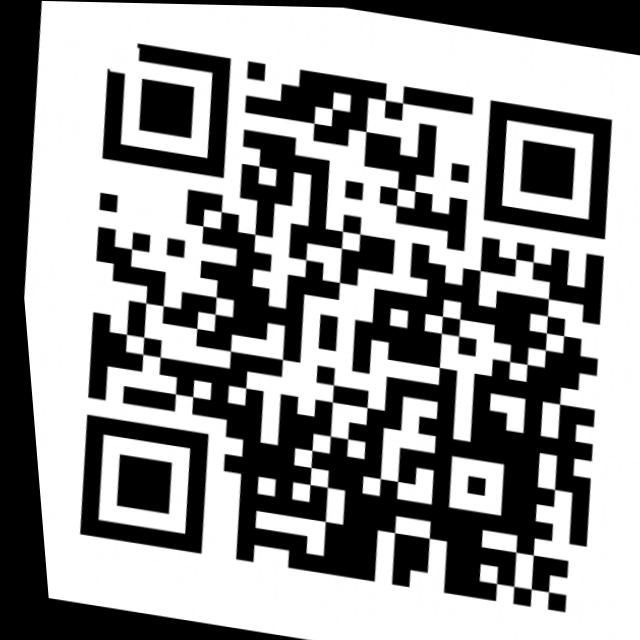QR_CODE: (10, 14, 640, 637)
